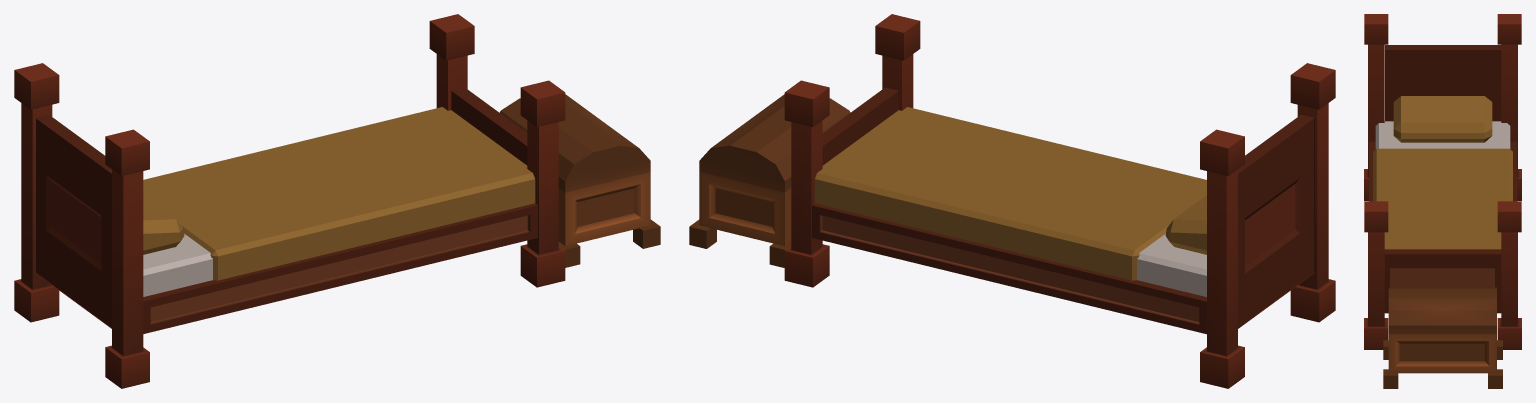
The model's file is bed3.glb.
3 renders of one model, left to right at view 1: azimuth 30°, elevation 25°; view 2: azimuth 150°, elevation 25°; view 3: azimuth 270°, elevation 25°, orthographic. The views are drawn at different scales.
Parts seen in each view (by area): view 1: Cube.011; view 2: Cube.011; view 3: Cube.011.
Part boxes in pixels (bbox=[...]): Cube.011: bbox=[14, 14, 660, 388]; Cube.011: bbox=[689, 14, 1335, 388]; Cube.011: bbox=[1364, 14, 1521, 388].
Size of the model in its own units: 2.97 by 1.24 by 0.9996.
